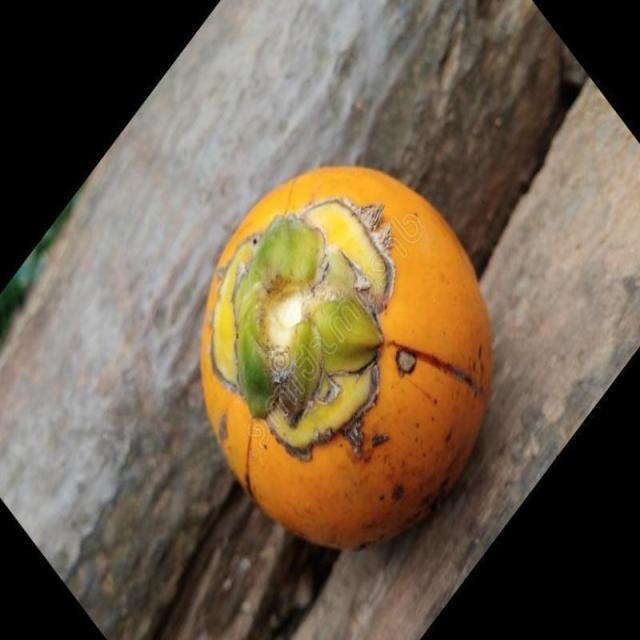good: (198, 166, 494, 554)
